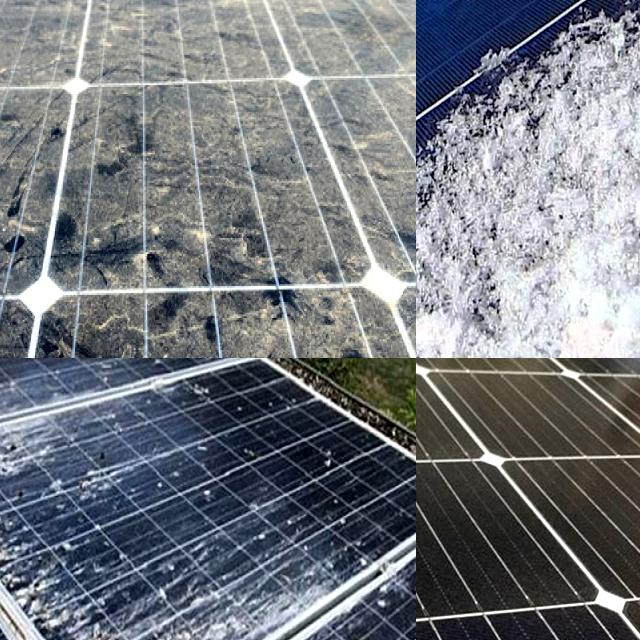bird: (6, 544, 72, 640), (181, 599, 284, 640), (0, 442, 36, 508), (300, 442, 344, 480), (402, 595, 416, 640)
crack: (416, 441, 637, 640), (461, 442, 640, 640), (416, 358, 640, 492), (416, 455, 571, 640), (416, 360, 557, 500), (416, 358, 538, 494)
dust: (90, 77, 342, 290), (94, 0, 416, 81), (42, 296, 416, 358), (0, 107, 94, 291), (112, 0, 372, 35), (0, 0, 84, 97)
panel: (416, 70, 517, 358), (541, 0, 640, 251), (416, 0, 483, 313), (416, 0, 533, 49), (416, 0, 500, 43), (416, 0, 475, 28)
